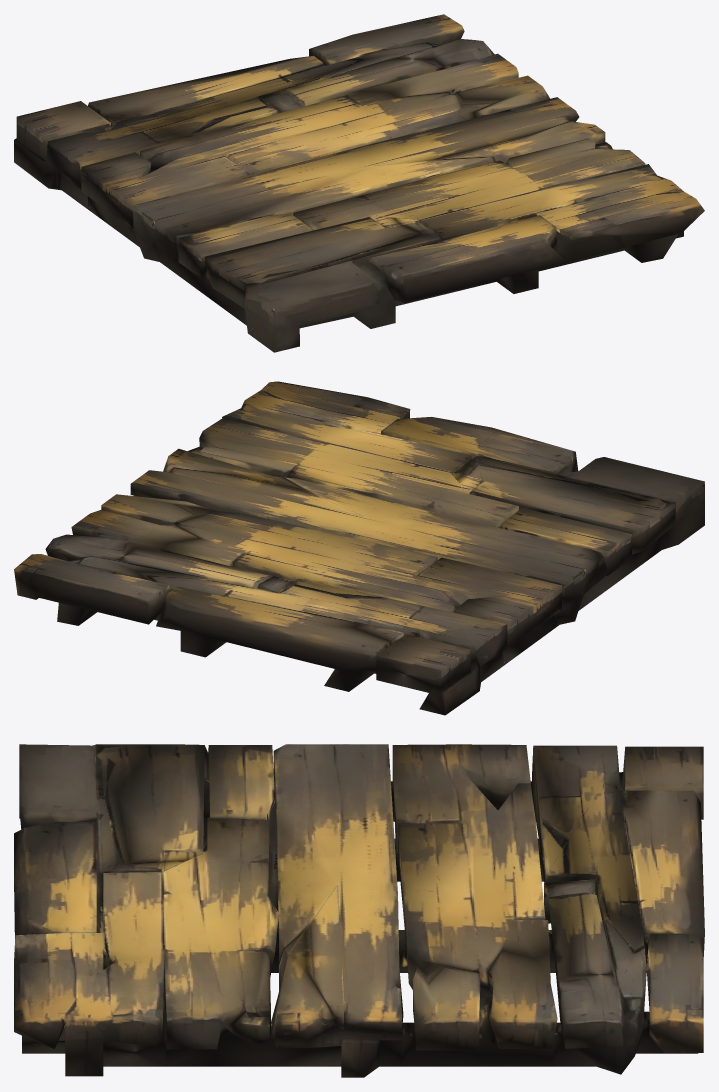
Rendered from tripo_convert_3a290136-9a04-47b5-bd92-8d5de0b58886.fbx.
The picture shows the model from 3 angles, top to bottom: view 1: azimuth 30°, elevation 25°; view 2: azimuth 150°, elevation 25°; view 3: azimuth 270°, elevation 25°; orthographic projection. The views are drawn at different scales.
Parts seen in each view (by area): view 1: tripo_node_3a290136; view 2: tripo_node_3a290136; view 3: tripo_node_3a290136.
Part boxes in pixels (box(x1,y1,x2,y2)): tripo_node_3a290136: box(14, 14, 704, 352); tripo_node_3a290136: box(14, 381, 704, 715); tripo_node_3a290136: box(14, 744, 704, 1077).
Size of the model in its own units: 0.9246 by 0.0938 by 0.9782.
1 material, 1 textured.
